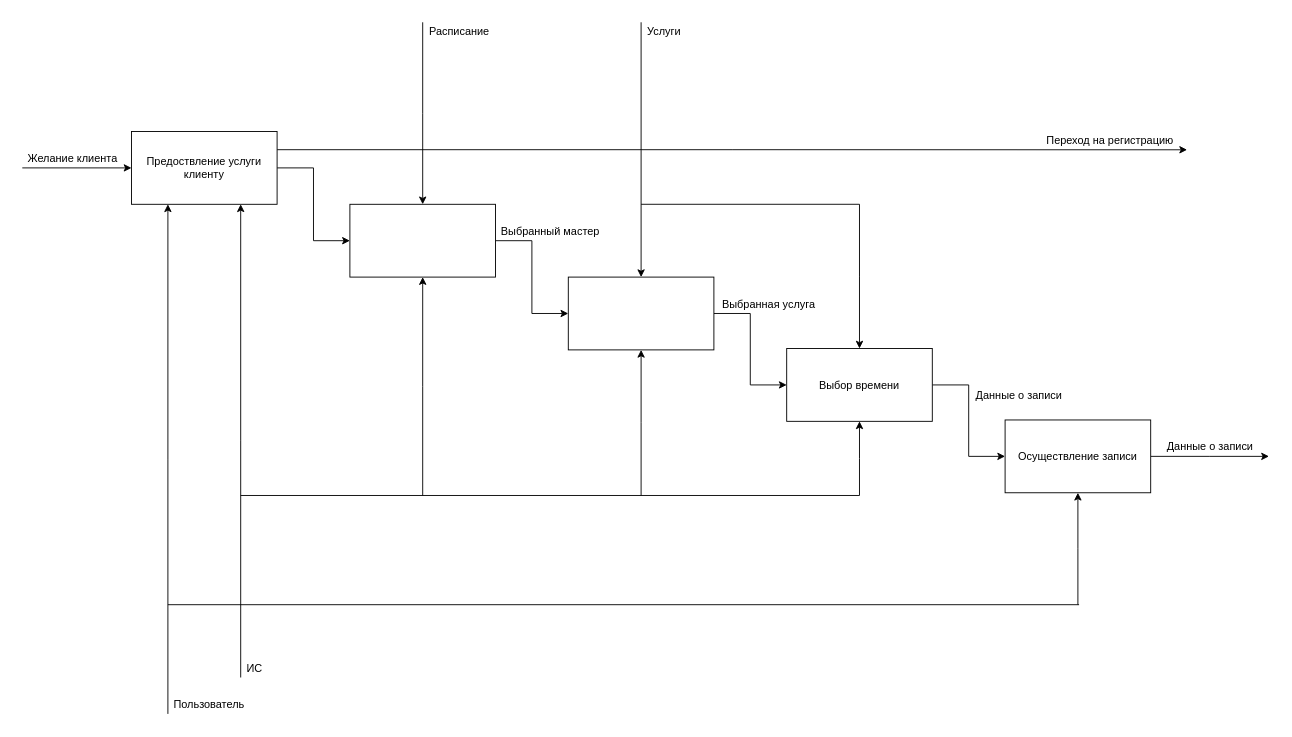
Some shapes in this 1292 by 737 pixel diagram are drawn without their labels. The box of each missing label's shape, as (x1, y1, x2, y2) in pixels:
Выбор мастера: (349, 203, 495, 277)
Выбор услуги: (567, 276, 714, 350)
